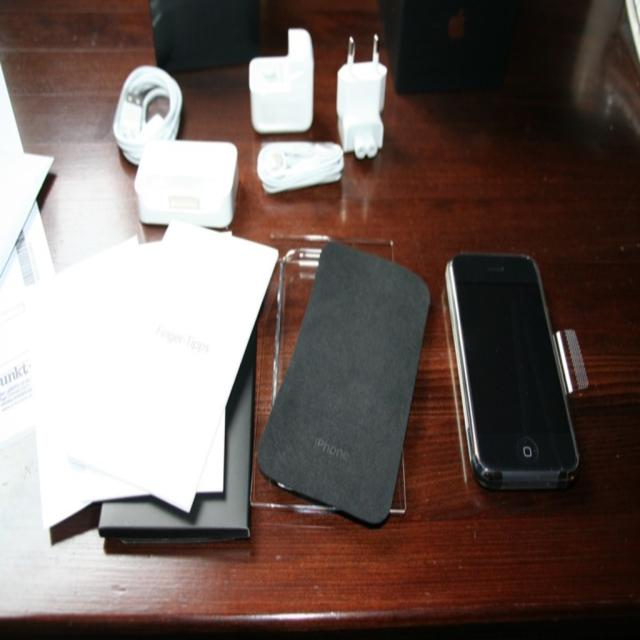Mobile-phone: (444, 255, 582, 492)
